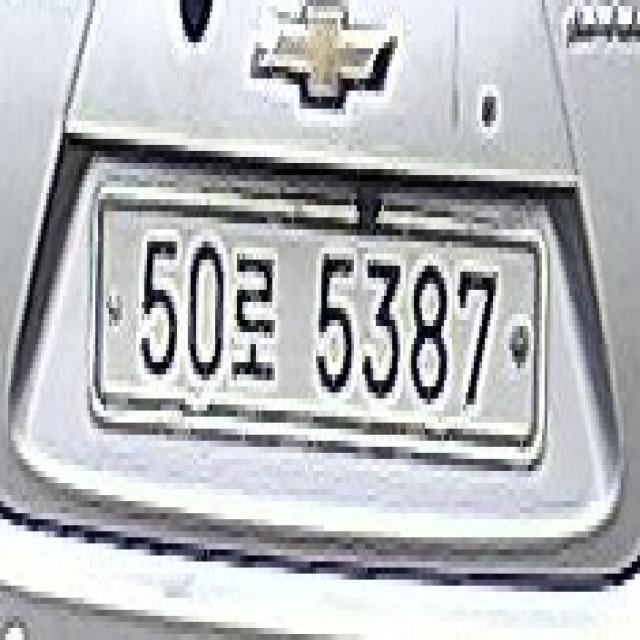0: (184, 238, 226, 390)
3: (358, 252, 404, 410)
5: (138, 233, 180, 387), (314, 251, 355, 400)
7: (456, 263, 498, 414)
8: (411, 263, 450, 413)
license_plate: (93, 198, 551, 478)
lo: (228, 244, 280, 386)
